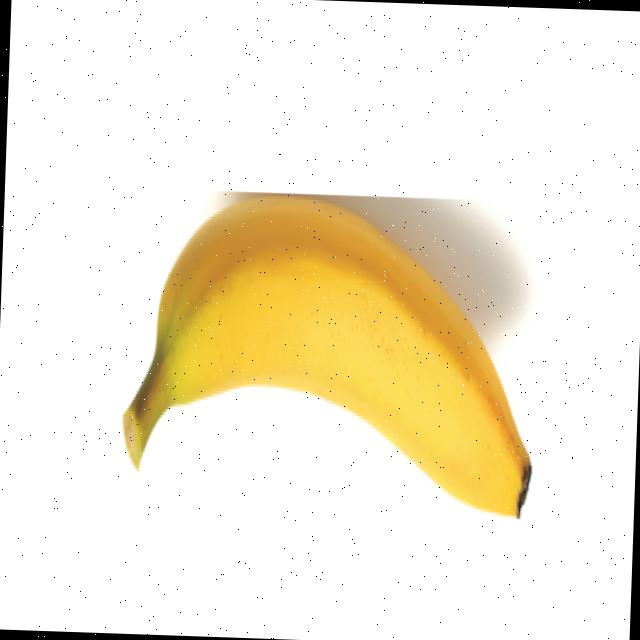Pisang: (118, 190, 540, 522)
